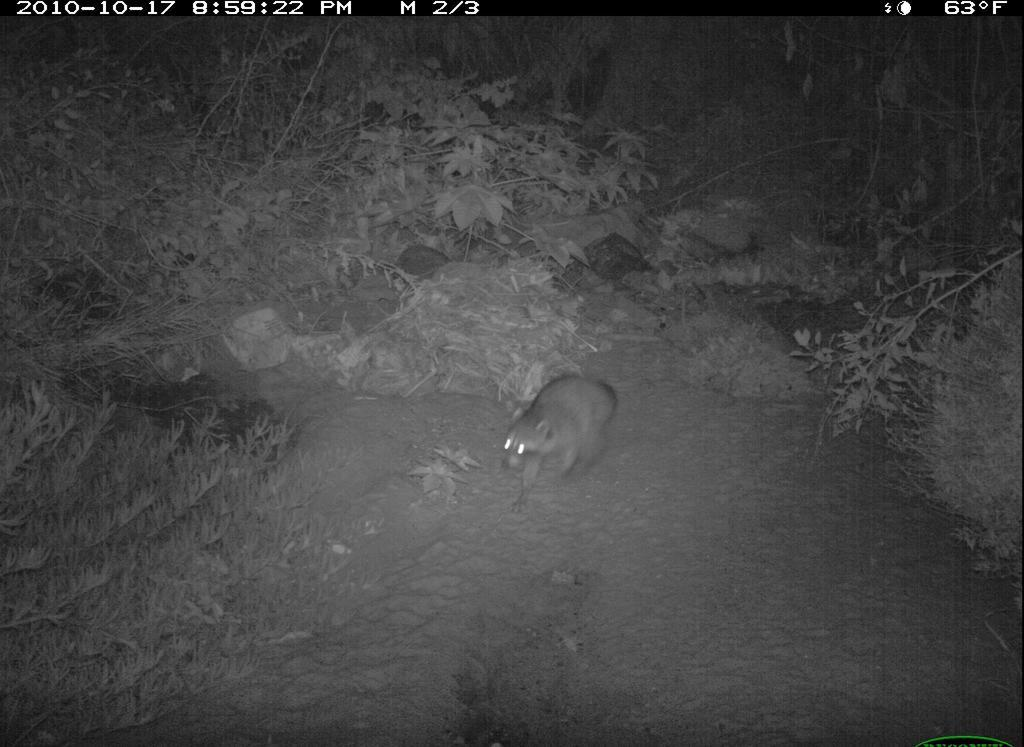raccoon: (484, 361, 624, 520)
